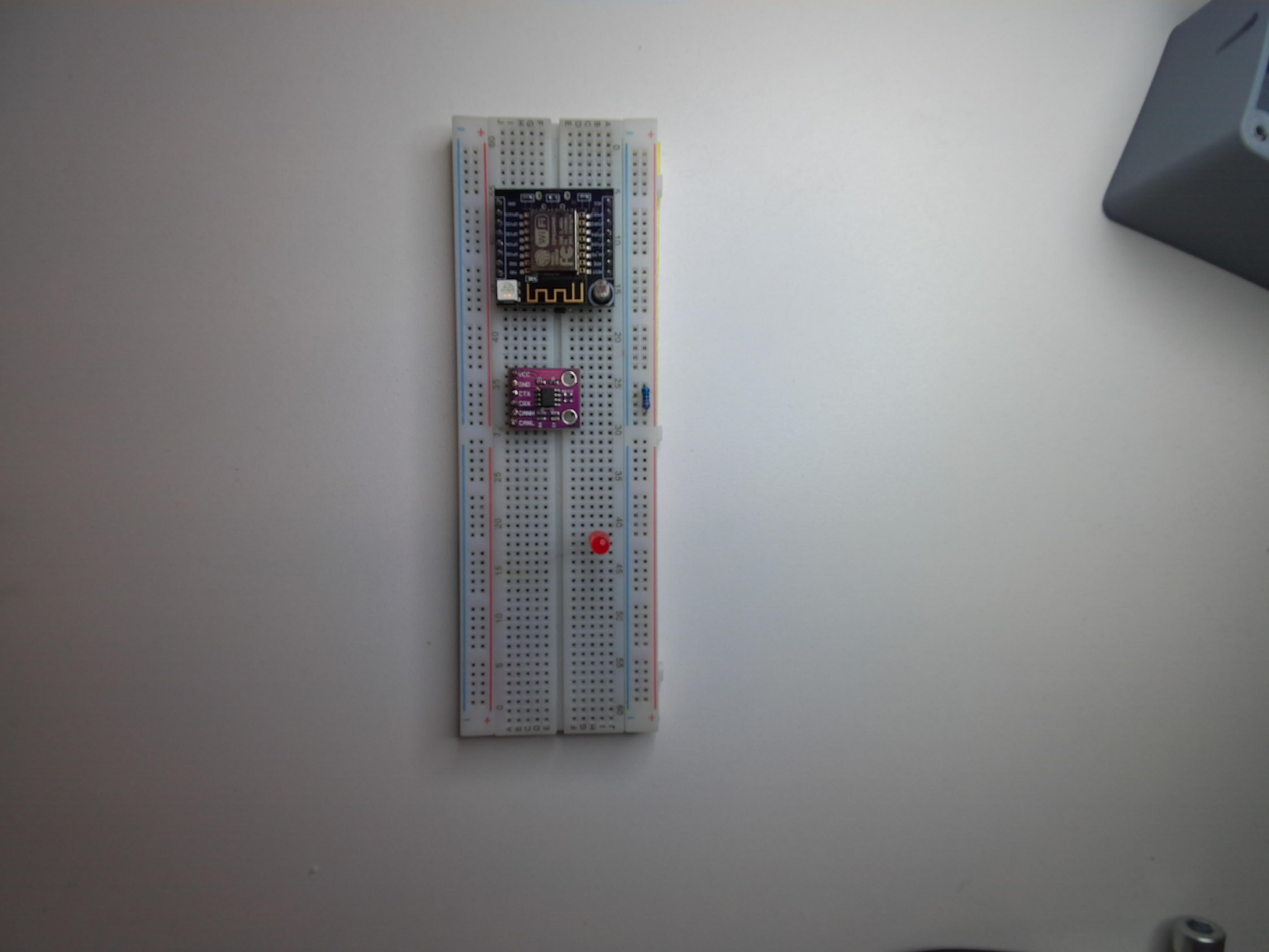base: (450, 114, 663, 746)
esp: (491, 188, 620, 310)
purple-board: (502, 364, 582, 435)
red-led: (582, 529, 617, 562)
resistor-small: (638, 378, 654, 414)
